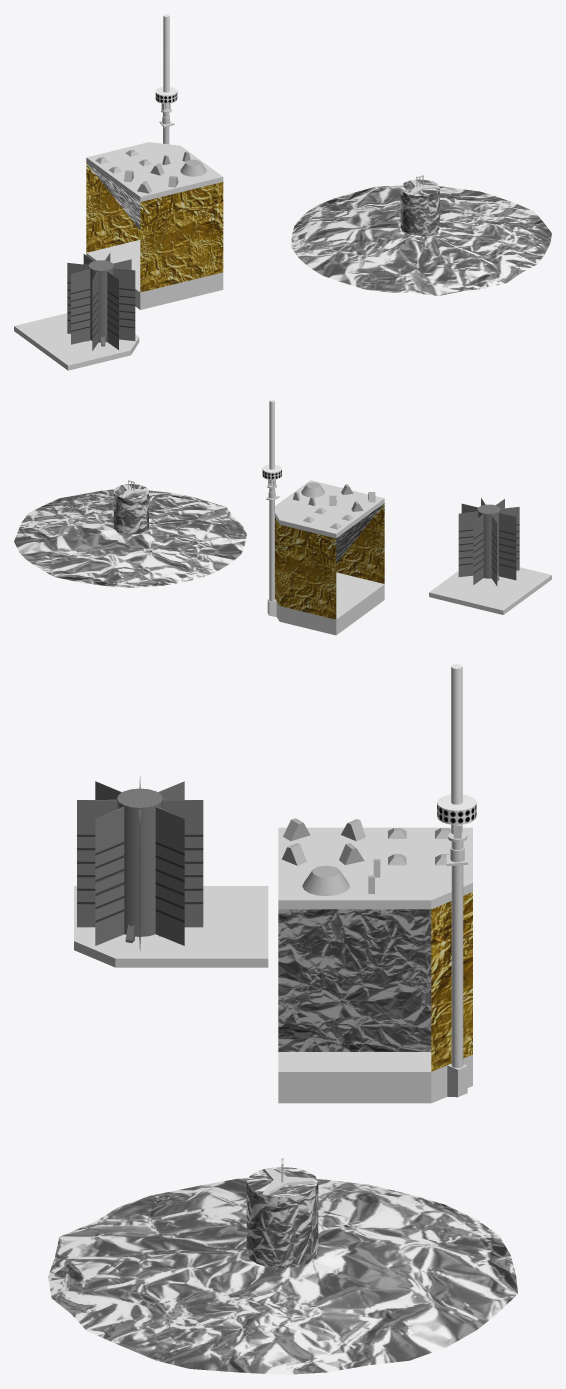
The model's file is alsep-nassp.glb.
3 views of the same model, one above another, from view 1: azimuth 30°, elevation 25°; view 2: azimuth 150°, elevation 25°; view 3: azimuth 270°, elevation 25° (orthographic). The views are drawn at different scales.
Visible parts, largest first — view 1: PSE_Skirt, CentralStation_Curtian, RTG, CentralStation_Sunshade, RTG_Base, CentralStation_ElecBox, PSE, CentralStation_Sunshade_Mounts, CentralStation_Antenna, CentralStation_Reflector; view 2: PSE_Skirt, CentralStation_Curtian, RTG, CentralStation_Sunshade, RTG_Base, CentralStation_ElecBox, PSE, CentralStation_Sunshade_Mounts, CentralStation_Antenna, CentralStation_Reflector, CentralStation_Antenna_Mast; view 3: PSE_Skirt, CentralStation_Reflector, RTG, CentralStation_Sunshade, RTG_Base, CentralStation_ElecBox, PSE, CentralStation_Curtian, CentralStation_Sunshade_Mounts, CentralStation_Antenna, CentralStation_Antenna_Mast, CentralStation_Antenna_Pointer.
Boxes of the visible parts, <box> form: PSE_Skirt: <box>291,185,551,295</box>; CentralStation_Curtian: <box>86,163,223,292</box>; RTG: <box>67,253,135,350</box>; CentralStation_Sunshade: <box>86,142,223,201</box>; RTG_Base: <box>14,313,139,370</box>; CentralStation_ElecBox: <box>86,240,223,309</box>; PSE: <box>400,179,439,235</box>; CentralStation_Sunshade_Mounts: <box>95,149,206,193</box>; CentralStation_Antenna: <box>155,14,177,109</box>; CentralStation_Reflector: <box>87,163,140,230</box>; PSE_Skirt: <box>14,489,246,587</box>; CentralStation_Curtian: <box>275,503,384,619</box>; RTG: <box>458,498,519,586</box>; CentralStation_Sunshade: <box>275,480,384,538</box>; RTG_Base: <box>429,567,551,614</box>; CentralStation_ElecBox: <box>267,572,384,635</box>; PSE: <box>113,484,148,534</box>; CentralStation_Sunshade_Mounts: <box>293,482,375,529</box>; CentralStation_Antenna: <box>262,399,281,484</box>; CentralStation_Reflector: <box>336,503,384,563</box>; CentralStation_Antenna_Mast: <box>269,518,274,601</box>; PSE_Skirt: <box>48,1178,517,1374</box>; CentralStation_Reflector: <box>278,909,431,1051</box>; RTG: <box>77,776,203,950</box>; CentralStation_Sunshade: <box>278,827,472,909</box>; RTG_Base: <box>74,886,268,967</box>; CentralStation_ElecBox: <box>278,1052,472,1103</box>; PSE: <box>246,1167,318,1268</box>; CentralStation_Curtian: <box>431,892,472,1071</box>; CentralStation_Sunshade_Mounts: <box>282,818,450,896</box>; CentralStation_Antenna: <box>437,664,476,834</box>; CentralStation_Antenna_Mast: <box>451,901,463,1067</box>; CentralStation_Antenna_Pointer: <box>446,825,468,902</box>.
Size of the model in its own units: 3.5 by 1.53 by 1.51.
Materials: 6 (4 with a texture image).
